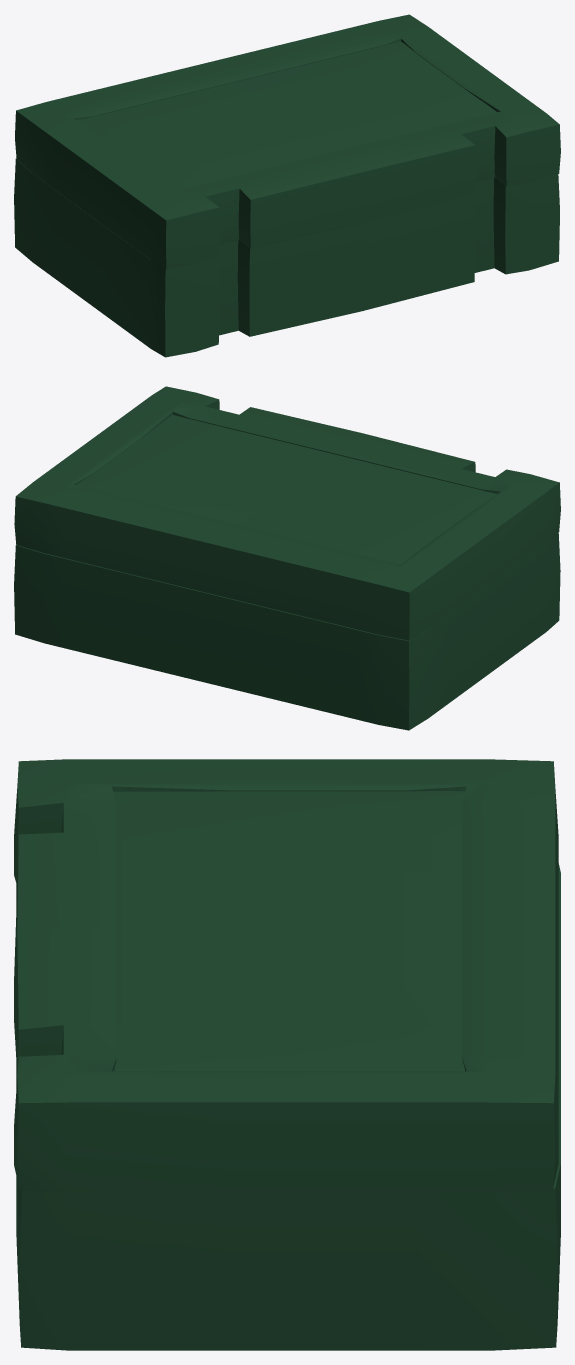
File: aidbox.fbx
3 views of the same model, one above another, from view 1: azimuth 30°, elevation 25°; view 2: azimuth 150°, elevation 25°; view 3: azimuth 270°, elevation 25° (orthographic). The views are drawn at different scales.
Parts seen in each view (by area): view 1: polySurface19, polySurface18; view 2: polySurface19, polySurface18; view 3: polySurface19, polySurface18.
Part boxes in pixels (x1,y1,x2,y2): polySurface19: (15, 14, 560, 269); polySurface18: (14, 158, 559, 357); polySurface19: (14, 386, 560, 640); polySurface18: (14, 532, 560, 730); polySurface19: (14, 759, 558, 1192); polySurface18: (16, 863, 560, 1350).
Bounding box in the file's own units: 48.64 × 16.83 × 32.48.
